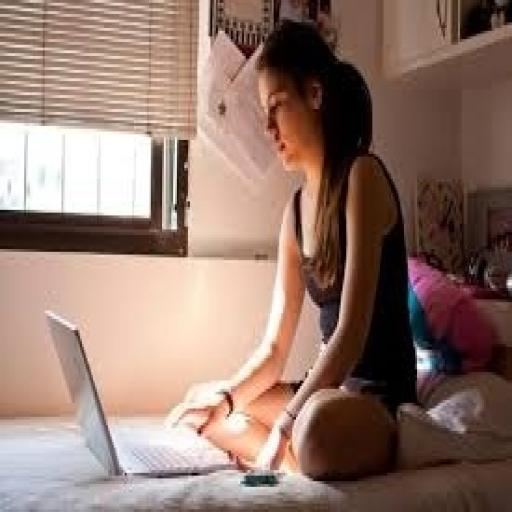using_laptop: (43, 305, 238, 481)
